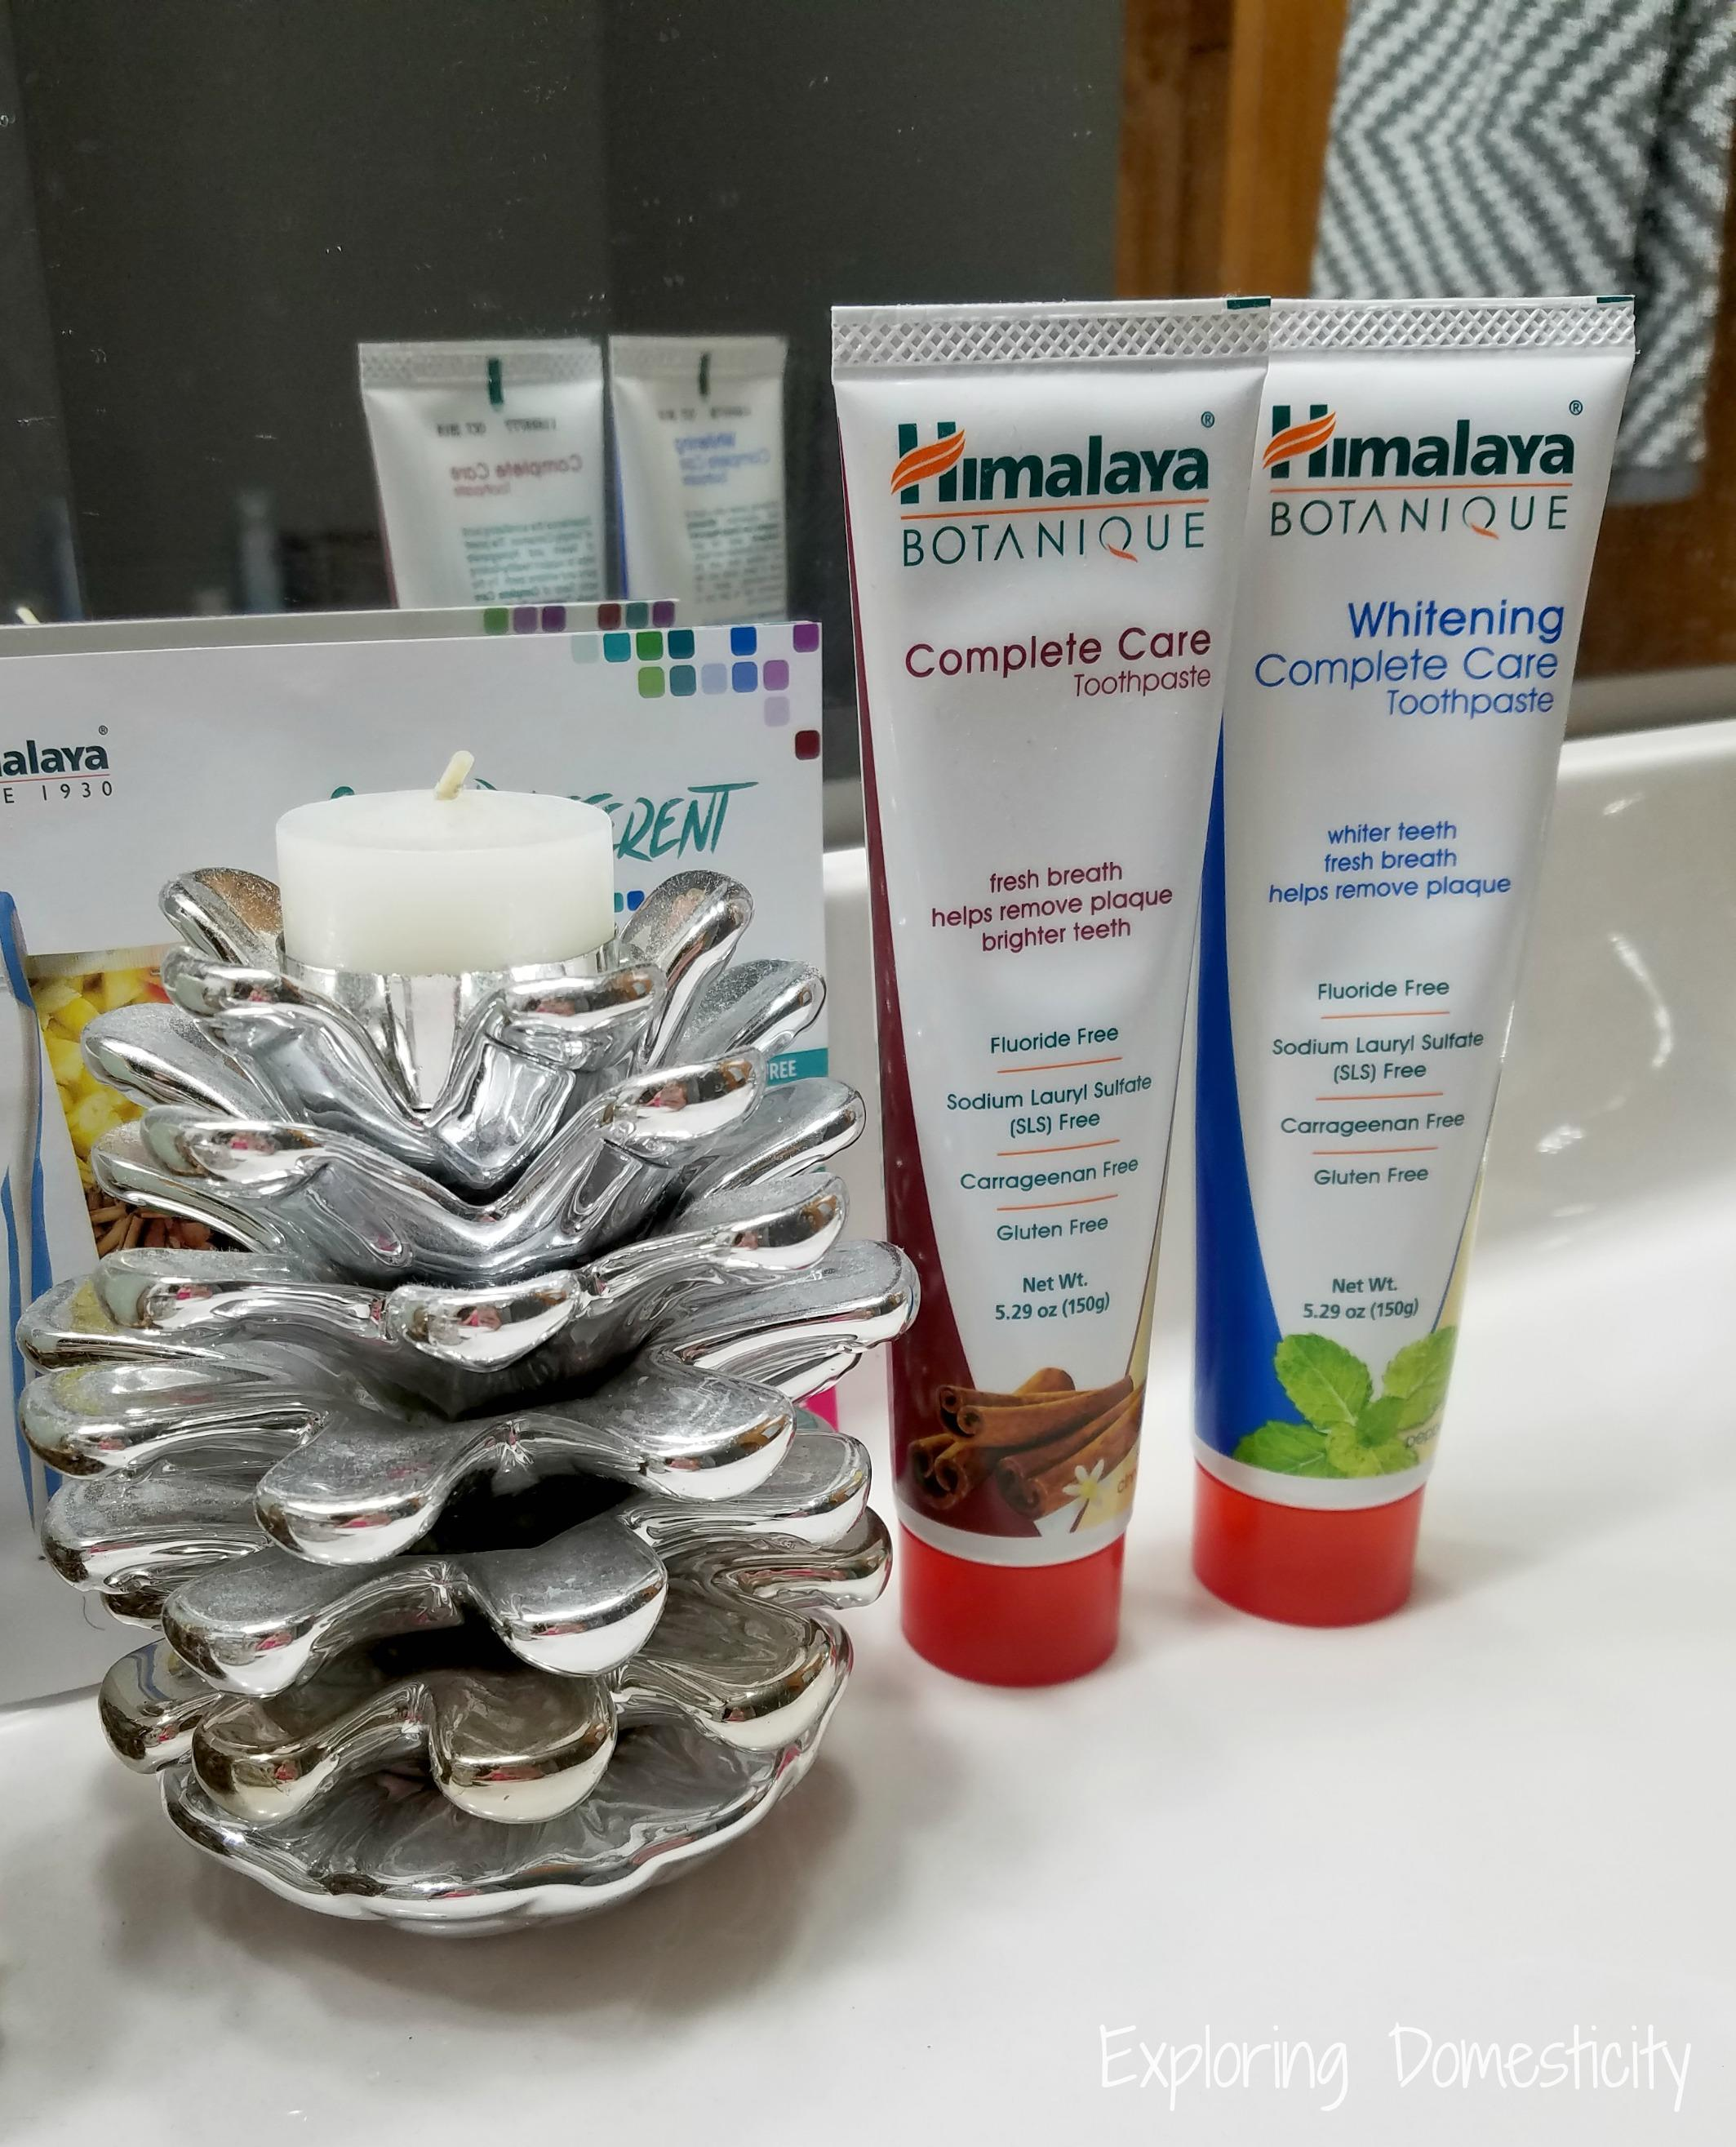toothpaste: (813, 255, 1206, 1683), (1238, 262, 1642, 1607), (340, 299, 609, 627), (625, 278, 836, 657)
